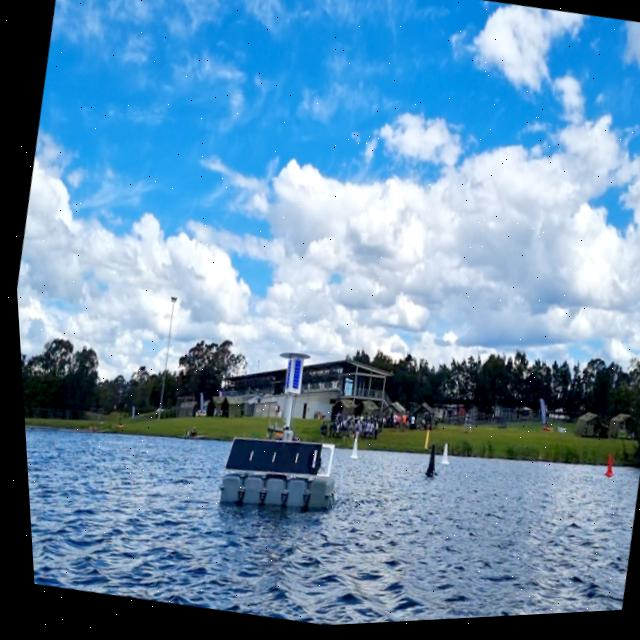led: (278, 359, 302, 398), (282, 360, 301, 396), (278, 361, 290, 395)
